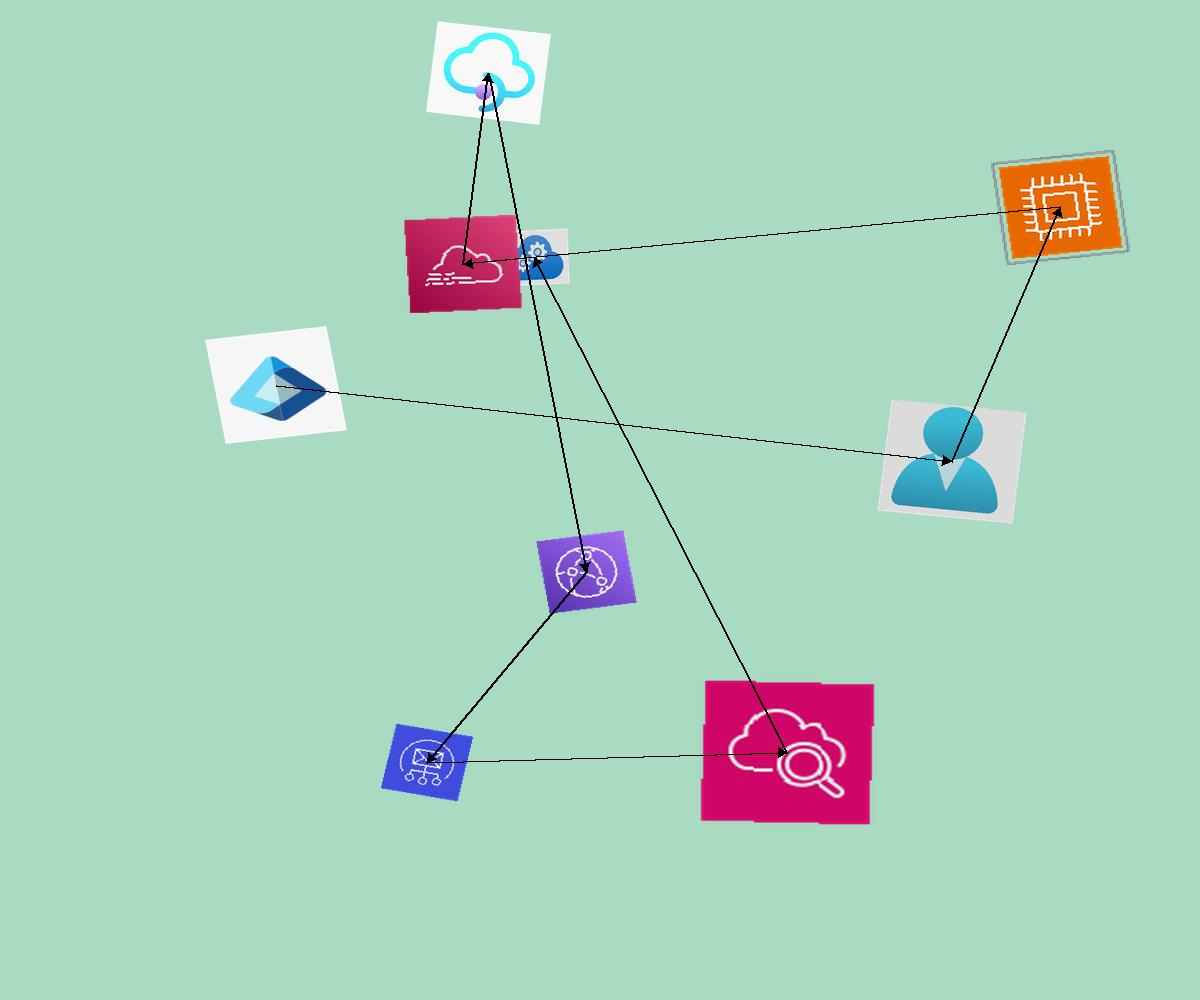AWS-Category_Compute: (990, 149, 1131, 266)
AWS-CloudFront: (536, 530, 637, 614)
AWS-CloudTrail: (403, 214, 523, 314)
AWS-CloudWatch: (699, 679, 876, 826)
AWS-Simple-Email-Service: (380, 723, 474, 802)
Azure_api_gateway: (426, 21, 551, 125)
Azure_cloud_services: (499, 228, 570, 287)
Azure_microsoft_entra: (205, 326, 347, 444)
Azure_users: (877, 399, 1027, 524)
